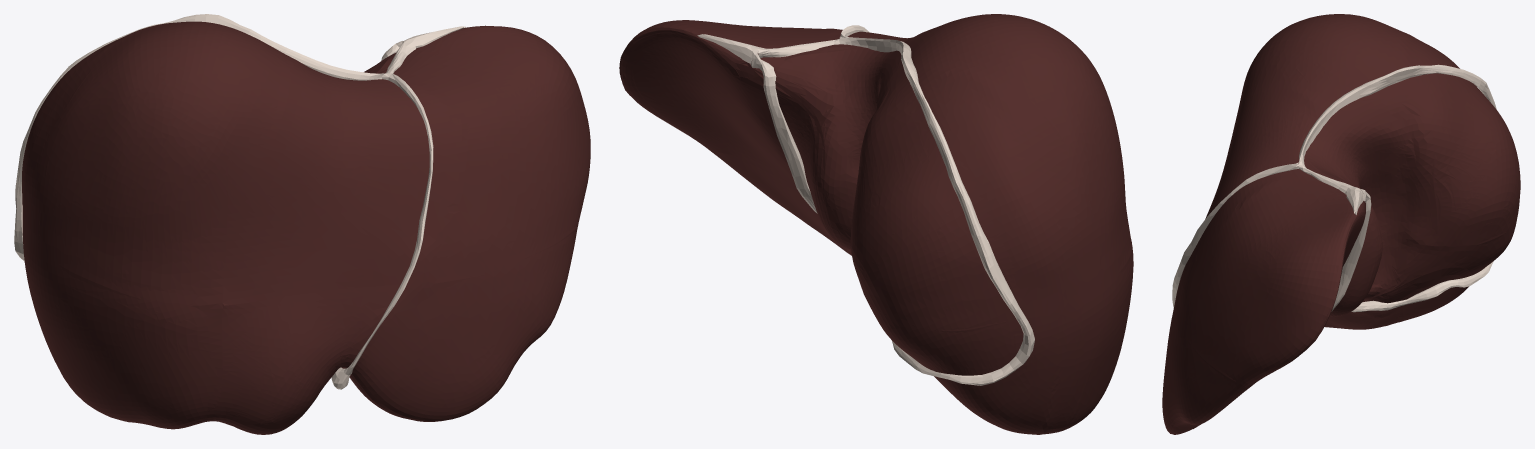
Rendered from VH_F_Liver_0.6.glb.
3 views of the same model, side by side, from view 1: azimuth 30°, elevation 25°; view 2: azimuth 150°, elevation 25°; view 3: azimuth 270°, elevation 25° (orthographic). The views are drawn at different scales.
Visible parts, largest first — view 1: VH_F_capsule_of_the_liver, VH_F_left_superomedial_segment1, VH_F_left_inferomedial_segment, VH_F_right_anterosuperior_segment, VH_F_right_anteroinferior_segment, VH_F_coronary_ligament_of_liver, VH_F_left_superomedial_segment, VH_F_falciform_ligament, VH_F_left_anterolateral_segment; view 2: VH_F_capsule_of_the_liver, VH_F_bare_area_of_liver, VH_F_left_superomedial_segment, VH_F_coronary_ligament_of_liver, VH_F_diaphragmatic_surface_of_liver, VH_F_right_posterosuperior_segment, VH_F_caudate_lobe, VH_F_ligamentum_venosum, VH_F_gastric_impression_of_liver, VH_F_left_anterolateral_segment, VH_F_right_posteroinferior_segment, VH_F_right_anterosuperior_segment (+3 smaller); view 3: VH_F_capsule_of_the_liver, VH_F_bare_area_of_liver, VH_F_caudate_lobe, VH_F_coronary_ligament_of_liver, VH_F_left_superomedial_segment1, VH_F_right_posterosuperior_segment, VH_F_diaphragmatic_surface_of_liver, VH_F_left_superomedial_segment, VH_F_falciform_ligament, VH_F_ligamentum_venosum, VH_F_right_posteroinferior_segment, VH_F_suprarenal_impression_of_liver (+3 smaller).
Part boxes in pixels (x1=…): VH_F_capsule_of_the_liver: x1=22, y1=21, x2=590, y2=434; VH_F_left_superomedial_segment1: x1=222, y1=55, x2=433, y2=305; VH_F_left_inferomedial_segment: x1=209, y1=284, x2=398, y2=433; VH_F_right_anterosuperior_segment: x1=38, y1=23, x2=278, y2=305; VH_F_right_anteroinferior_segment: x1=39, y1=264, x2=223, y2=426; VH_F_coronary_ligament_of_liver: x1=14, y1=14, x2=413, y2=261; VH_F_left_superomedial_segment: x1=380, y1=29, x2=587, y2=284; VH_F_falciform_ligament: x1=344, y1=73, x2=433, y2=375; VH_F_left_anterolateral_segment: x1=342, y1=226, x2=577, y2=419; VH_F_capsule_of_the_liver: x1=619, y1=14, x2=1133, y2=434; VH_F_bare_area_of_liver: x1=749, y1=47, x2=1023, y2=375; VH_F_left_superomedial_segment: x1=622, y1=23, x2=840, y2=178; VH_F_coronary_ligament_of_liver: x1=767, y1=36, x2=1034, y2=385; VH_F_diaphragmatic_surface_of_liver: x1=619, y1=30, x2=996, y2=425; VH_F_right_posterosuperior_segment: x1=851, y1=61, x2=1101, y2=331; VH_F_caudate_lobe: x1=778, y1=47, x2=899, y2=250; VH_F_ligamentum_venosum: x1=751, y1=53, x2=817, y2=213; VH_F_gastric_impression_of_liver: x1=668, y1=66, x2=851, y2=255; VH_F_left_anterolateral_segment: x1=716, y1=151, x2=832, y2=238; VH_F_right_posteroinferior_segment: x1=866, y1=299, x2=1101, y2=434; VH_F_right_anterosuperior_segment: x1=897, y1=26, x2=1132, y2=282; VH_F_capsule_of_the_liver: x1=1162, y1=14, x2=1472, y2=434; VH_F_bare_area_of_liver: x1=1306, y1=74, x2=1520, y2=299; VH_F_caudate_lobe: x1=1305, y1=98, x2=1439, y2=315; VH_F_coronary_ligament_of_liver: x1=1298, y1=64, x2=1496, y2=312; VH_F_left_superomedial_segment1: x1=1198, y1=64, x2=1323, y2=241; VH_F_right_posterosuperior_segment: x1=1393, y1=31, x2=1518, y2=244; VH_F_diaphragmatic_surface_of_liver: x1=1170, y1=201, x2=1493, y2=433; VH_F_left_superomedial_segment: x1=1176, y1=172, x2=1365, y2=381; VH_F_falciform_ligament: x1=1172, y1=162, x2=1299, y2=307; VH_F_ligamentum_venosum: x1=1331, y1=189, x2=1371, y2=311; VH_F_right_posteroinferior_segment: x1=1386, y1=226, x2=1513, y2=325; VH_F_suprarenal_impression_of_liver: x1=1399, y1=267, x2=1471, y2=289.
Size of the model in its own units: 0.2471 by 0.17 by 0.1663.
